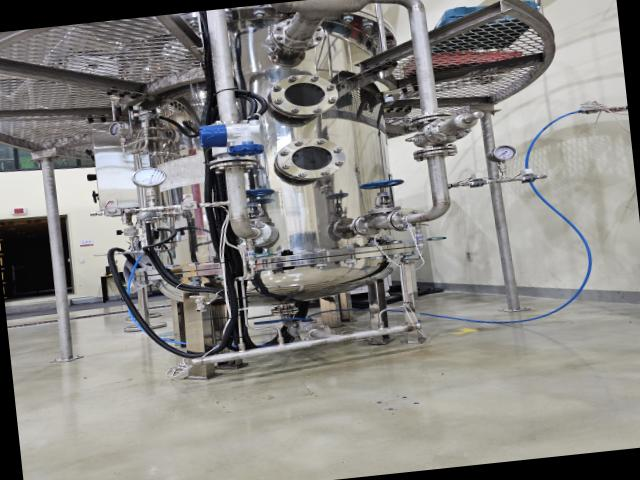Flange: (263, 69, 343, 121), (272, 134, 347, 184)
Flush Ring: (268, 14, 330, 54), (230, 218, 278, 250), (202, 152, 266, 174), (403, 110, 459, 130), (294, 319, 337, 345), (388, 206, 424, 233), (411, 144, 462, 162), (350, 213, 382, 238)
GasRegulator: (102, 104, 188, 164)
Nuts: (514, 170, 545, 186), (100, 205, 129, 220), (464, 176, 494, 190), (178, 200, 202, 214)
Piston Valve: (356, 174, 404, 216), (244, 186, 280, 220)
Pressure Gage: (132, 165, 172, 210), (488, 144, 520, 181)
